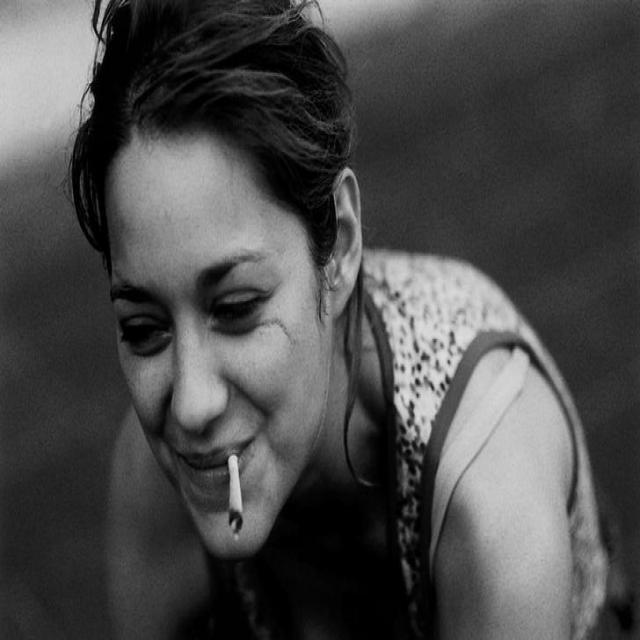Сигарета: (226, 454, 243, 535)
Тело: (71, 7, 592, 640)
